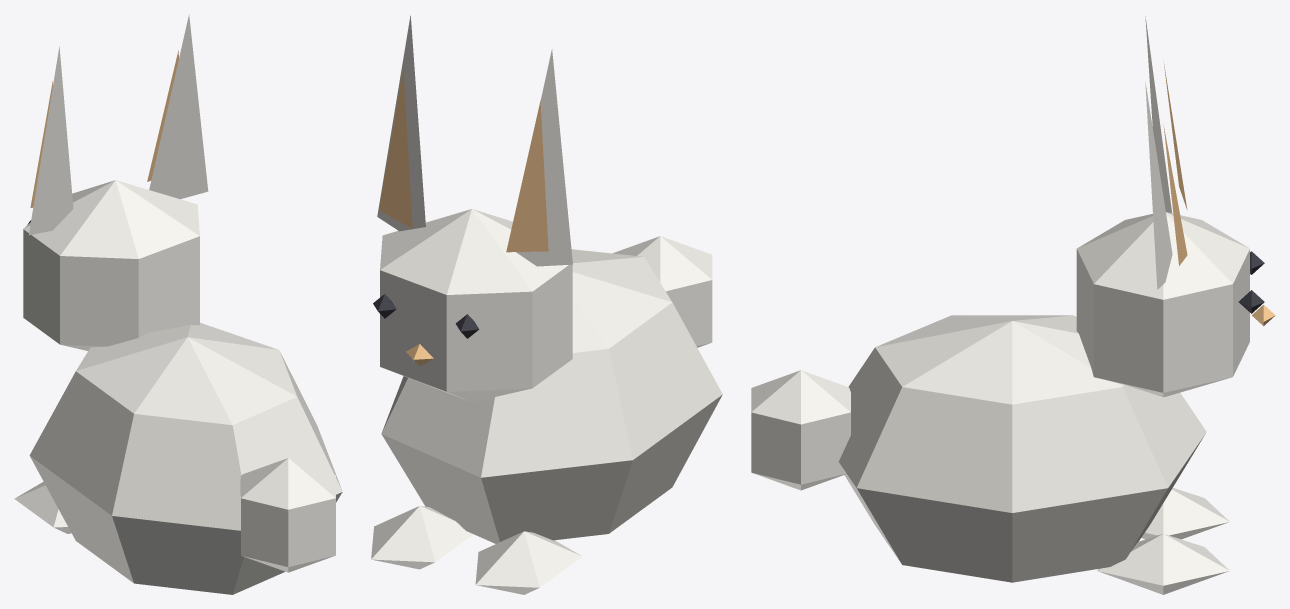
File: deco_rabbit.obj
3 renders of one model, left to right at view 1: azimuth 30°, elevation 25°; view 2: azimuth 150°, elevation 25°; view 3: azimuth 270°, elevation 25°, orthographic. The views are drawn at different scales.
Parts seen in each view (by area): view 1: deco_rabbit; view 2: deco_rabbit; view 3: deco_rabbit.
Boxes of the visible parts, x1,y1,x2,y2 form: deco_rabbit: (14,14,342,594); deco_rabbit: (371,15,722,594); deco_rabbit: (751,16,1275,594).
Size of the model in its own units: 0.0247 by 0.048 by 0.0434.
Materials: 1 (1 with a texture image).
